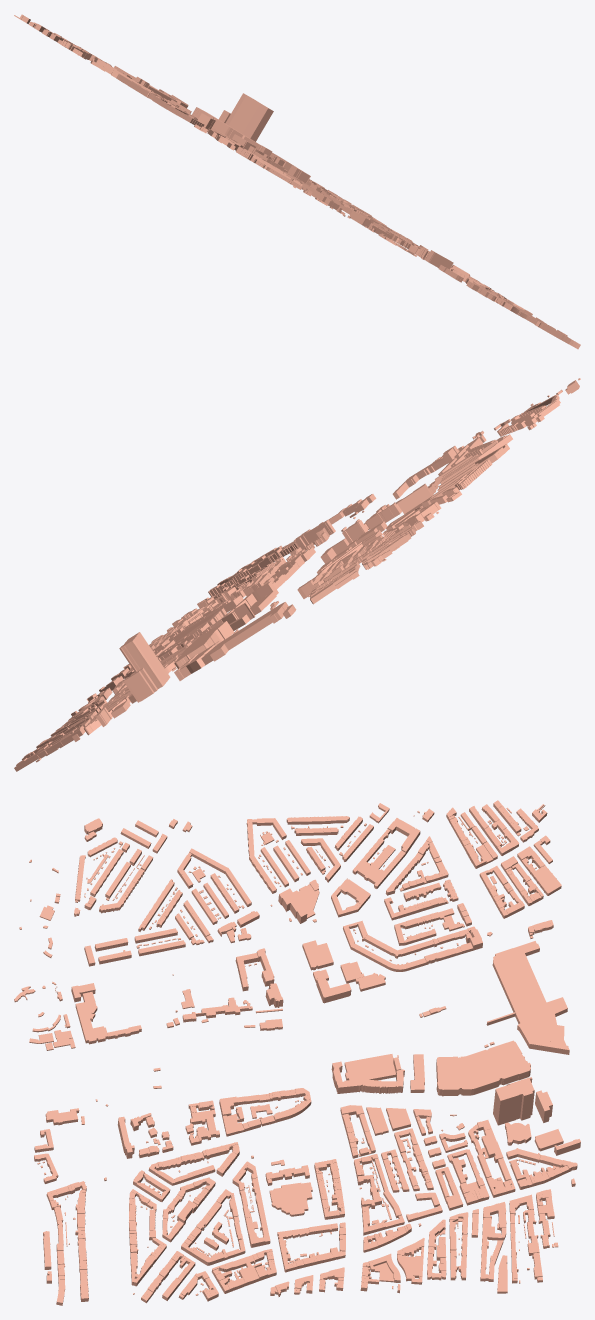
The picture shows the model from 3 angles, top to bottom: view 1: azimuth 30°, elevation 25°; view 2: azimuth 150°, elevation 25°; view 3: azimuth 270°, elevation 25°; orthographic projection. The views are drawn at different scales.
Size of the model in its own units: 1056 by 772 by 1272.
